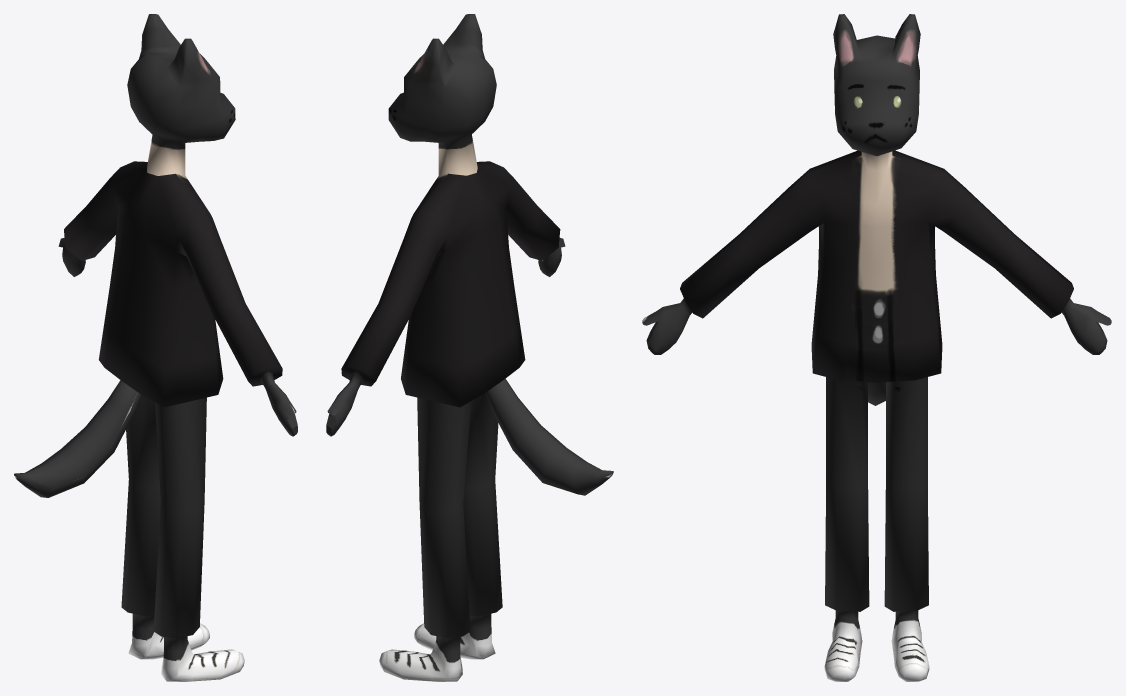
File: player.fbx
3 renders of one model, left to right at view 1: azimuth 30°, elevation 25°; view 2: azimuth 150°, elevation 25°; view 3: azimuth 270°, elevation 25°, orthographic.
Parts seen in each view (by area): view 1: friend; view 2: friend; view 3: friend.
Boxes of the visible parts, x1,y1,x2,y2 form: friend: (14, 14, 297, 681); friend: (326, 14, 613, 681); friend: (642, 14, 1111, 681).
Size of the model in its own units: 65.82 by 189 by 124.
Materials: 1 (1 with a texture image).
